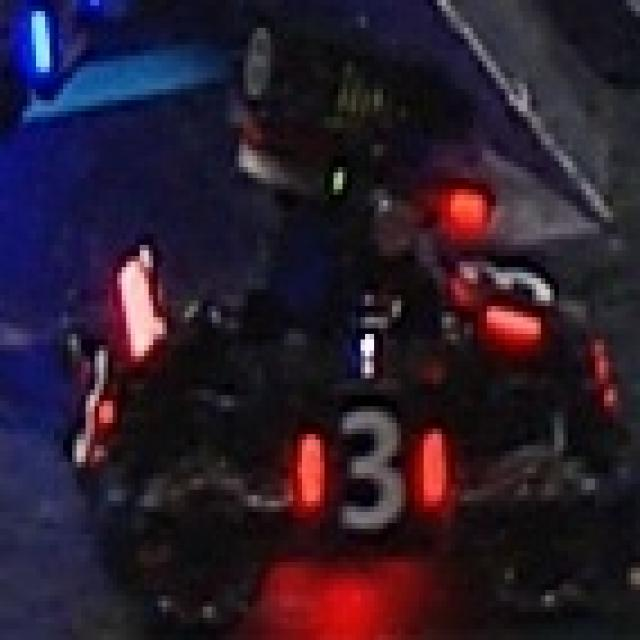R3: (284, 401, 455, 540), (438, 245, 554, 339), (63, 339, 126, 478)
